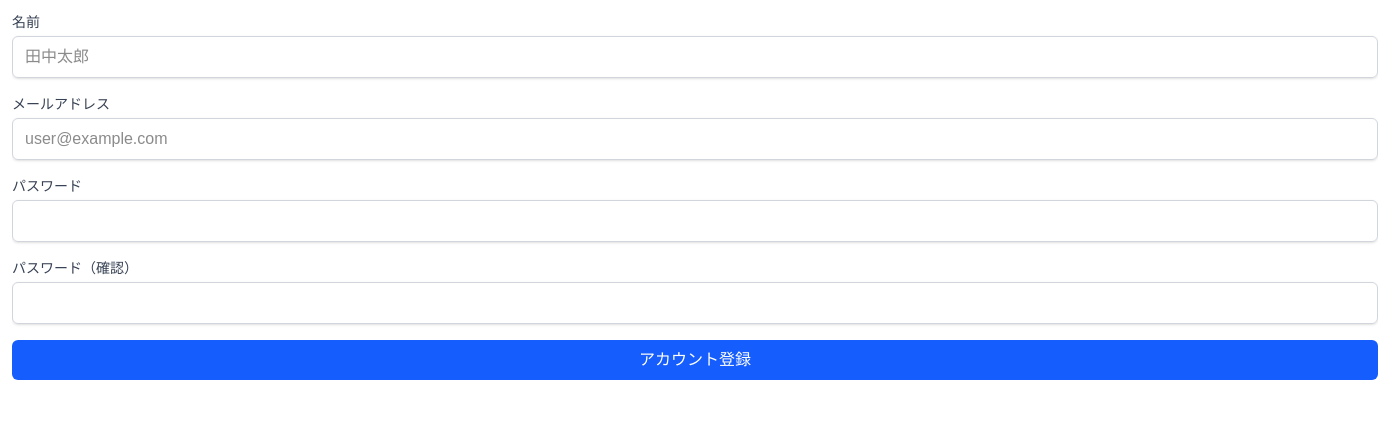
Test case: RegisterForm › パスワード不一致でバリデーションエラーが表示される
The width and height of the screenshot is (1390, 425).
Type "テスト" into the field labelled "名前". click: [695, 57]
box: x1=12 y1=36 x2=1378 y2=78
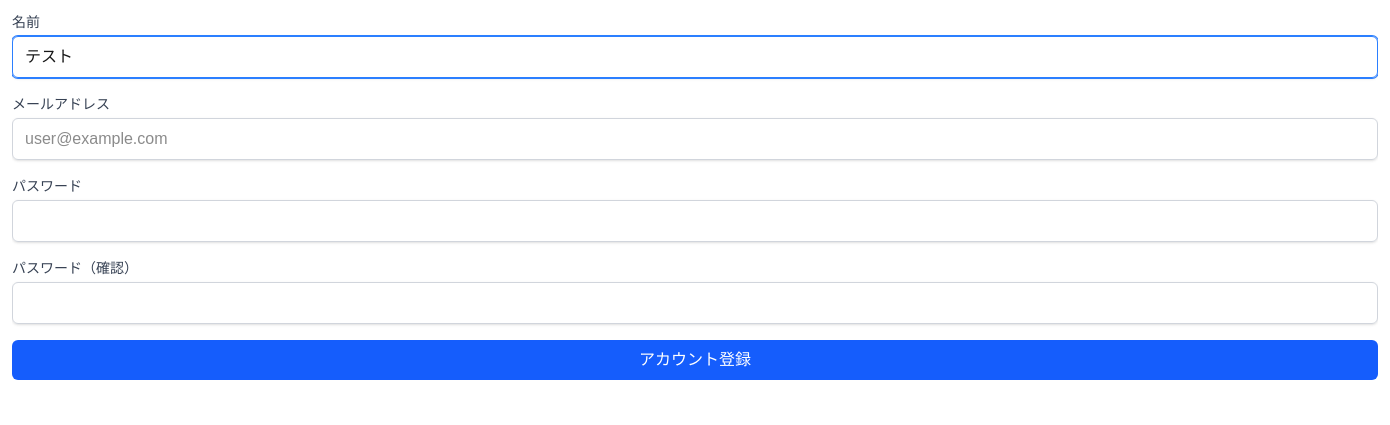
Type "test@example.com" into the field labelled "メールアドレス". click: [695, 139]
box: x1=12 y1=118 x2=1378 y2=160
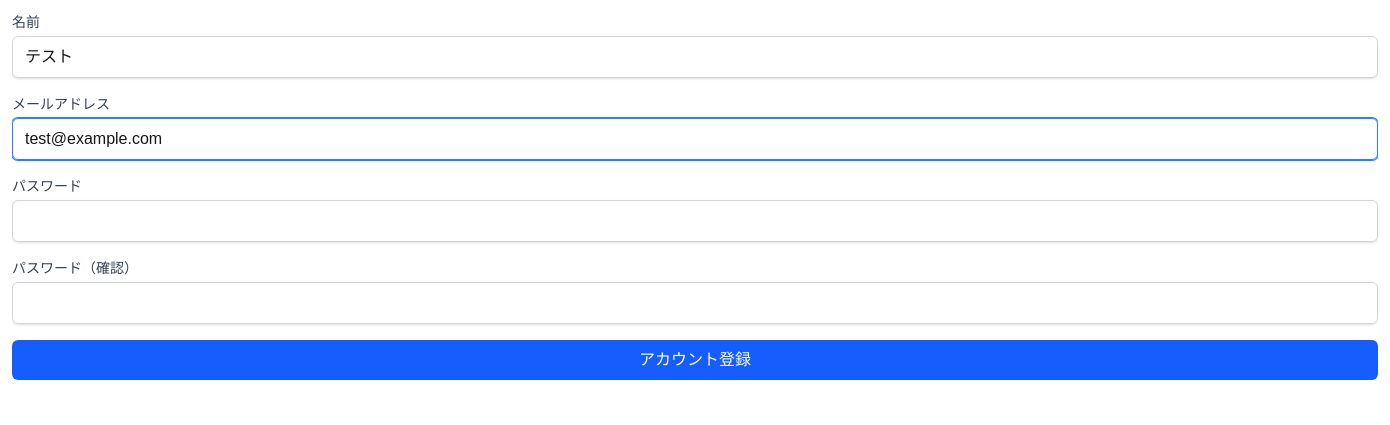
Type "password123" into the password field labelled "パスワード". click: [695, 221]
box: x1=12 y1=200 x2=1378 y2=242
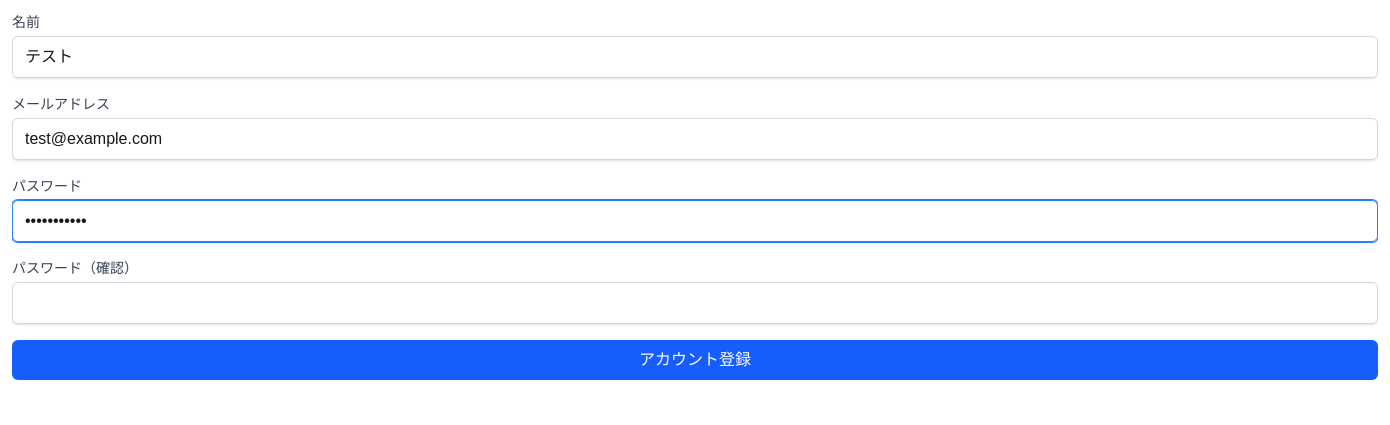
Type "different123" into the password field labelled "パスワード（確認）". click: [695, 303]
box: x1=12 y1=282 x2=1378 y2=324
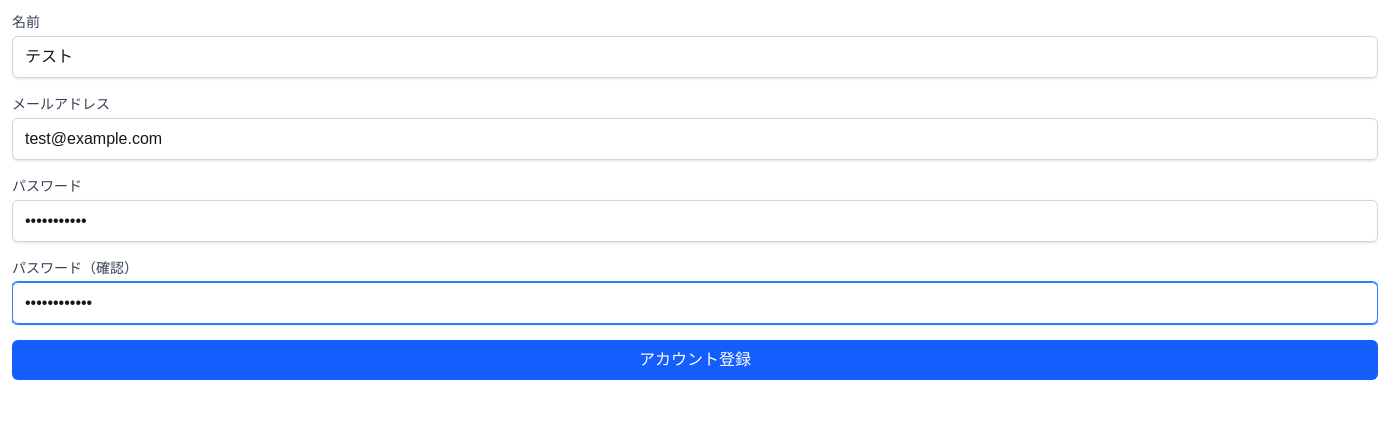
Click the button "アカウント登録". click: [695, 360]
box: x1=12 y1=340 x2=1378 y2=380
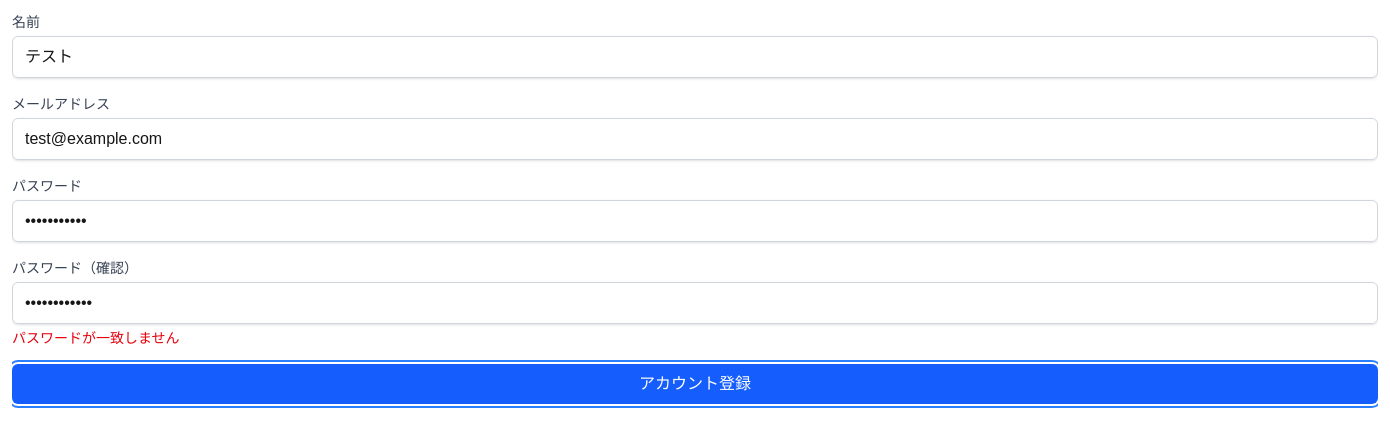
expect the text "パスワードが一致しません" is shown: met, box x1=12 y1=330 x2=180 y2=346
